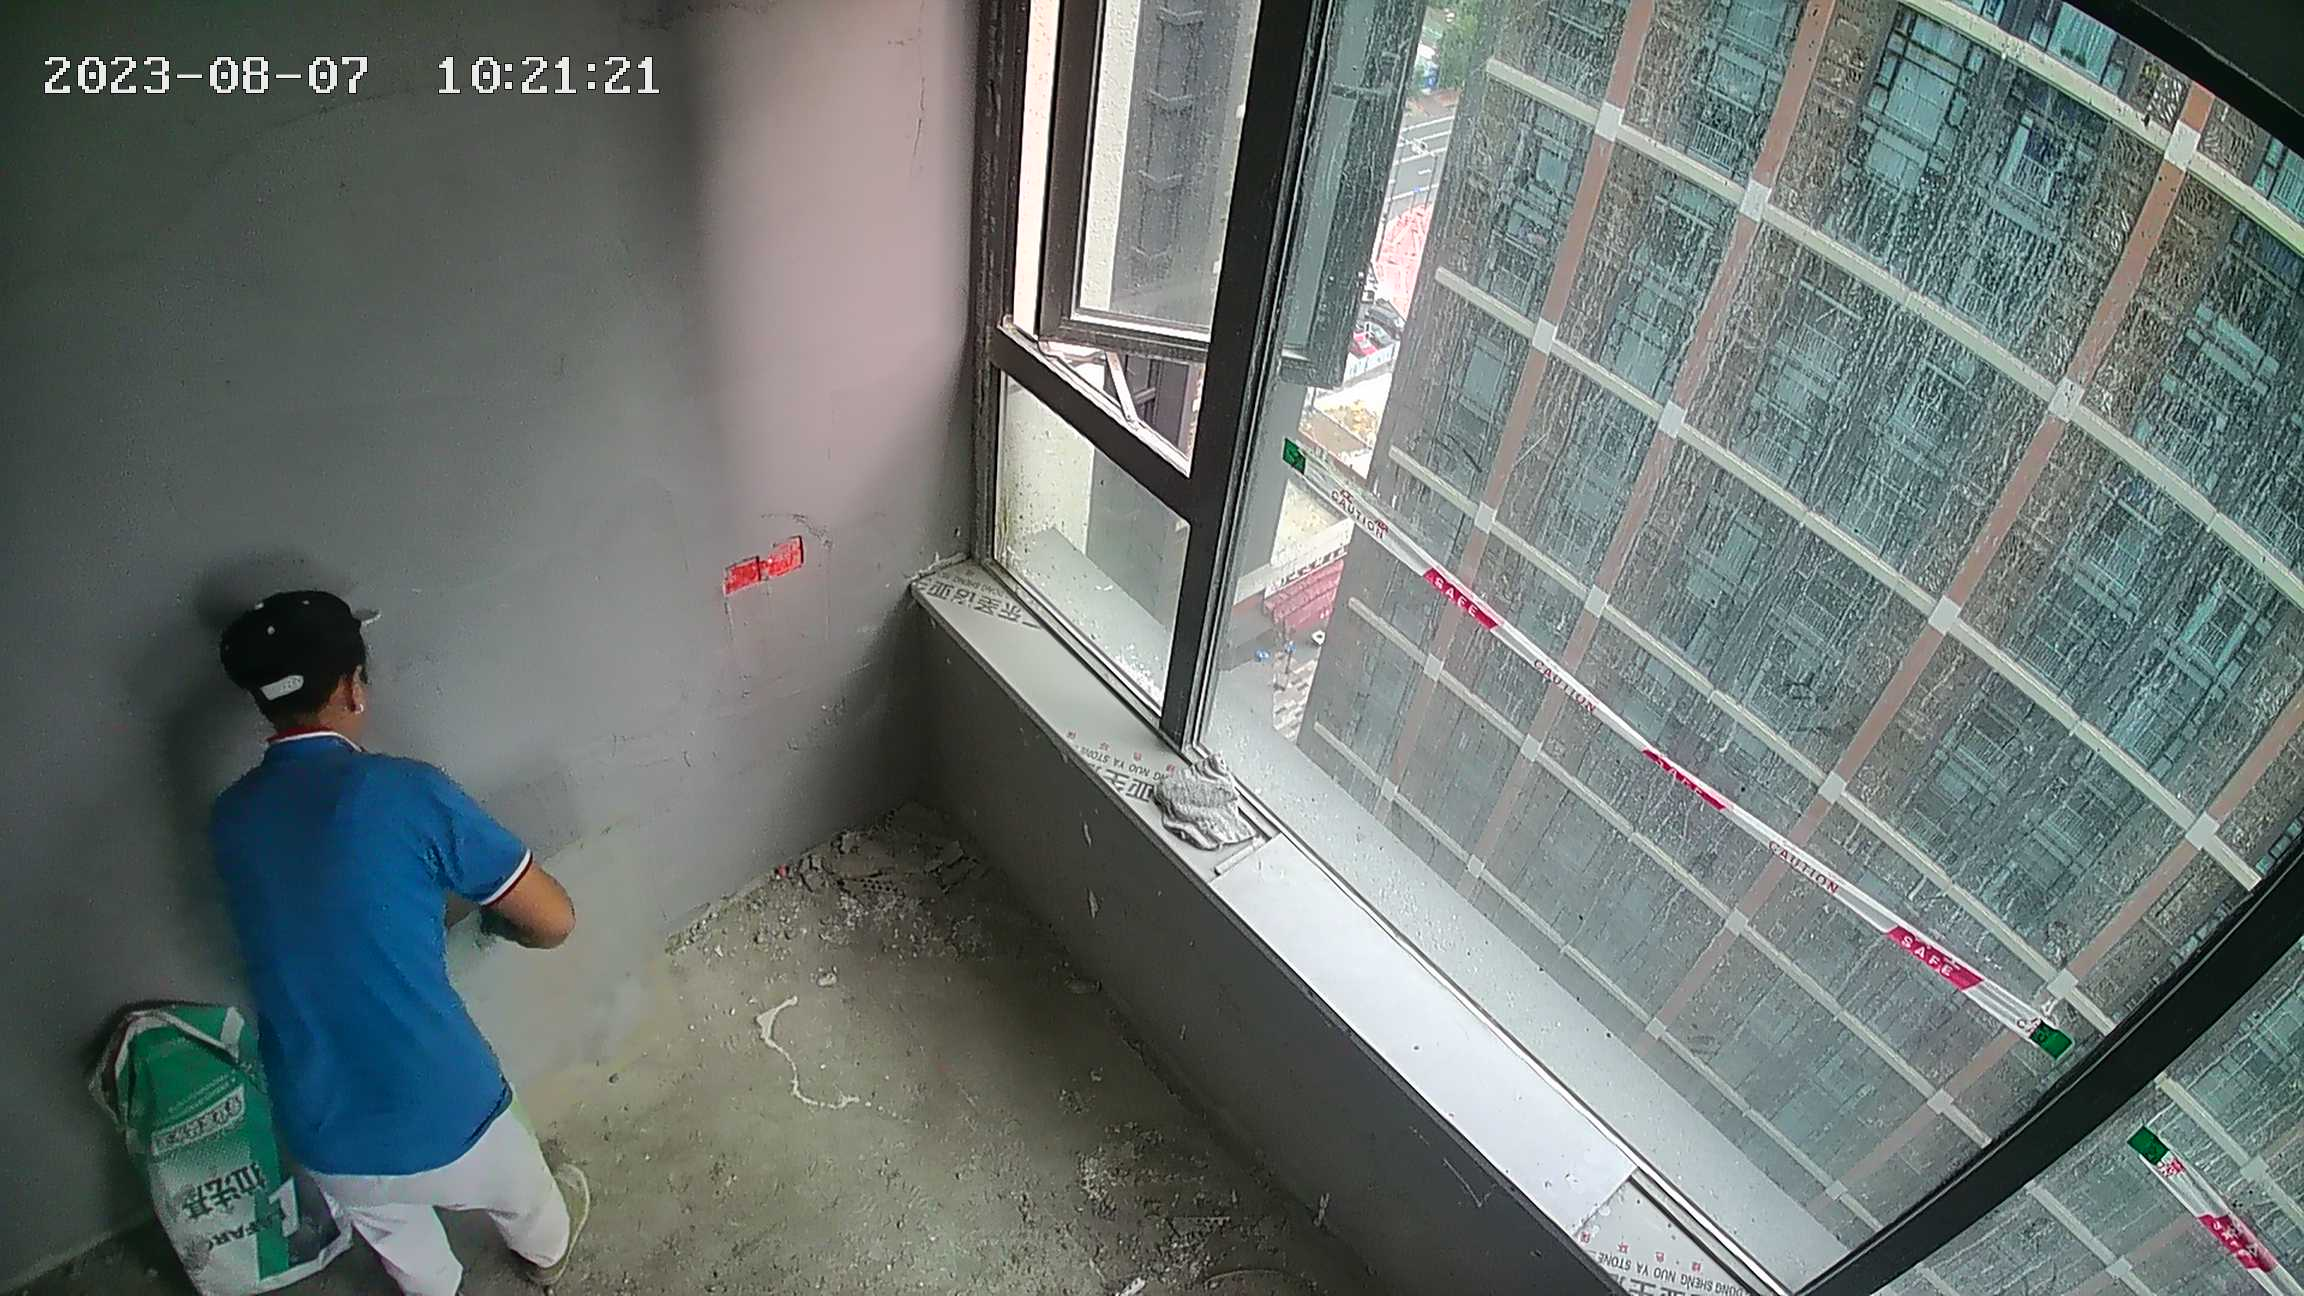people: (194, 583, 599, 1292)
window: (991, 15, 2301, 1296)
